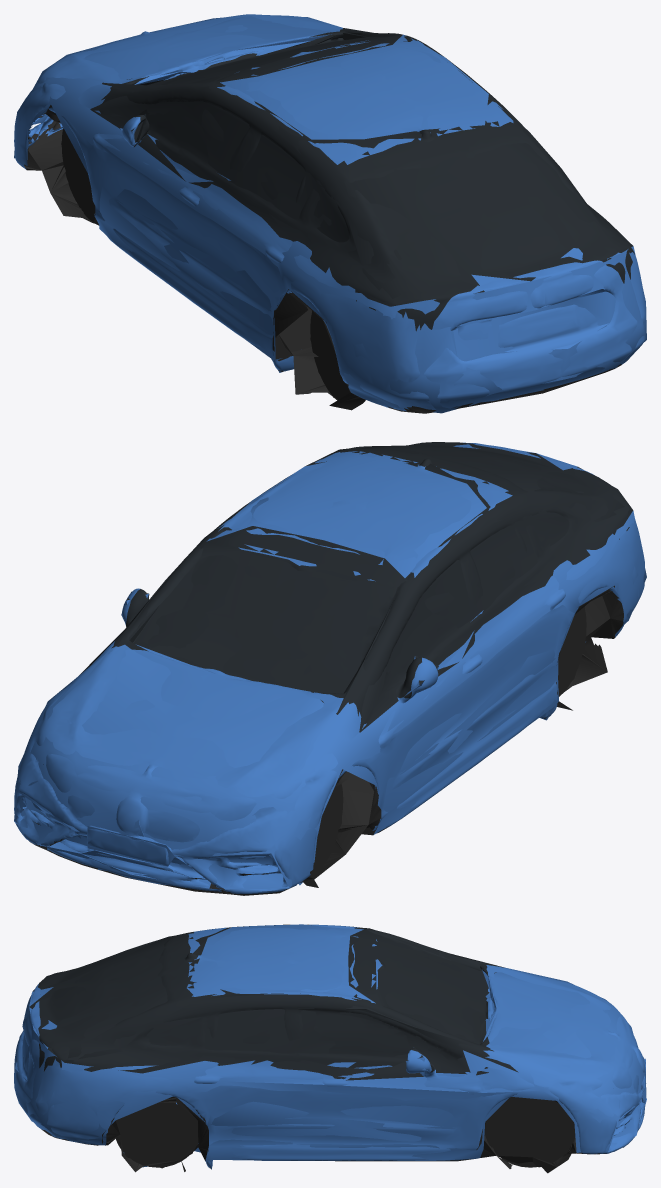
File: mercedes-benz-eqs.glb
The picture shows the model from 3 angles, top to bottom: view 1: azimuth 30°, elevation 25°; view 2: azimuth 150°, elevation 25°; view 3: azimuth 270°, elevation 25°; orthographic projection. The views are drawn at different scales.
Parts seen in each view (by area): view 1: body, far; view 2: body, far; view 3: body, far.
Boxes of the visible parts, left/top/right/bottom form: body: left=14, top=14, right=646, bottom=413; far: left=14, top=15, right=646, bottom=413; body: left=14, top=442, right=644, bottom=895; far: left=14, top=442, right=646, bottom=889; body: left=14, top=924, right=646, bottom=1173; far: left=14, top=924, right=646, bottom=1169.
Size of the model in its own units: 2.25 by 1.61 by 5.26.
